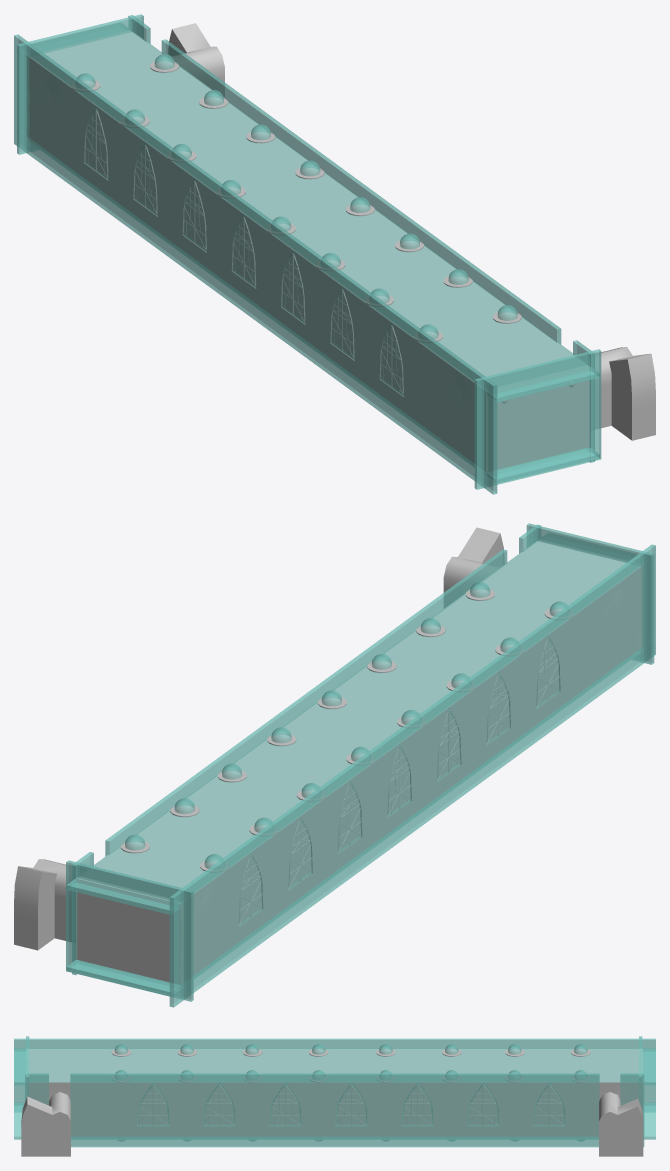
The model's file is FinalCorridor.obj.
3 views of the same model, one above another, from view 1: azimuth 30°, elevation 25°; view 2: azimuth 150°, elevation 25°; view 3: azimuth 270°, elevation 25° (orthographic). The views are drawn at different scales.
Parts seen in each view (by area): view 1: 廊下_v1.2_mesh_廊下_v1.2, wall1_Cube.001, wall7_Cube.007, wall5_Cube.005, wall2_Cube.002, wall8_Cube.008, wall6_Cube.006, wall4_Cube.004; view 2: 廊下_v1.2_mesh_廊下_v1.2, wall1_Cube.001, wall7_Cube.007, wall2_Cube.002, wall6_Cube.006, wall8_Cube.008, wall5_Cube.005, wall3_Cube.003; view 3: 廊下_v1.2_mesh_廊下_v1.2, wall2_Cube.002, wall7_Cube.007, wall1_Cube.001, wall8_Cube.008, wall3_Cube.003, wall4_Cube.004, wall6_Cube.006, wall5_Cube.005.
Boxes of the visible parts, x1,y1,x2,y2 form: 廊下_v1.2_mesh_廊下_v1.2: [27, 23, 655, 471]; wall1_Cube.001: [14, 34, 497, 494]; wall7_Cube.007: [30, 23, 599, 402]; wall5_Cube.005: [474, 349, 601, 489]; wall2_Cube.002: [161, 39, 561, 344]; wall8_Cube.008: [28, 139, 599, 483]; wall6_Cube.006: [17, 14, 143, 154]; wall4_Cube.004: [573, 340, 594, 462]; 廊下_v1.2_mesh_廊下_v1.2: [14, 527, 642, 984]; wall1_Cube.001: [169, 544, 655, 1007]; wall7_Cube.007: [66, 533, 640, 914]; wall2_Cube.002: [105, 549, 507, 856]; wall6_Cube.006: [66, 860, 193, 1001]; wall8_Cube.008: [66, 649, 642, 996]; wall5_Cube.005: [526, 523, 654, 664]; wall3_Cube.003: [72, 852, 93, 975]; 廊下_v1.2_mesh_廊下_v1.2: [21, 1048, 643, 1156]; wall2_Cube.002: [70, 1073, 599, 1147]; wall7_Cube.007: [14, 1048, 655, 1085]; wall1_Cube.001: [14, 1038, 655, 1111]; wall8_Cube.008: [14, 1103, 655, 1139]; wall3_Cube.003: [620, 1073, 644, 1147]; wall4_Cube.004: [25, 1073, 48, 1105]; wall6_Cube.006: [639, 1036, 642, 1108]; wall5_Cube.005: [26, 1036, 29, 1098].
Size of the model in its own units: 33.85 by 20 by 160.
